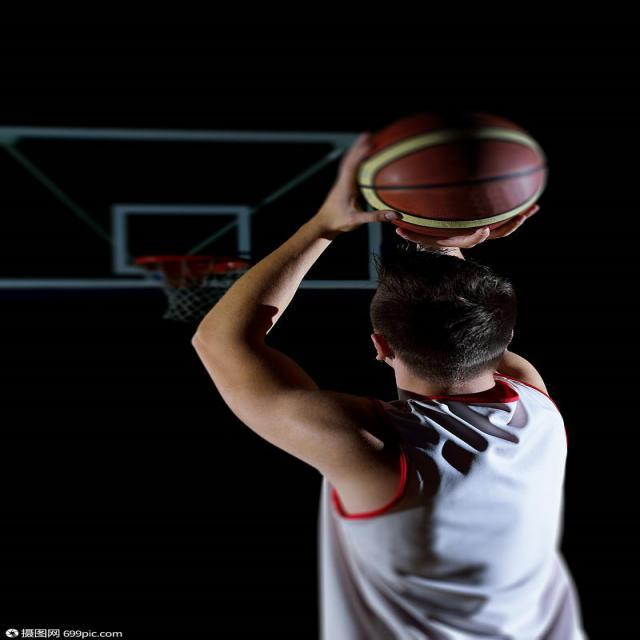rim: (351, 119, 549, 239)
